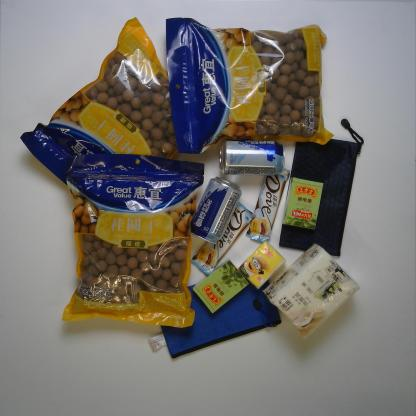Alcohol: (189, 178, 239, 246), (220, 139, 287, 175)
Candy: (192, 260, 249, 314), (283, 178, 323, 230)
Chocolate: (192, 203, 256, 275), (245, 168, 290, 244)
Dried Food: (22, 18, 198, 205), (61, 155, 205, 329), (164, 18, 334, 155)
Stationery: (148, 272, 280, 363), (280, 119, 364, 255)
Tissue: (266, 246, 357, 336), (238, 242, 285, 289)
